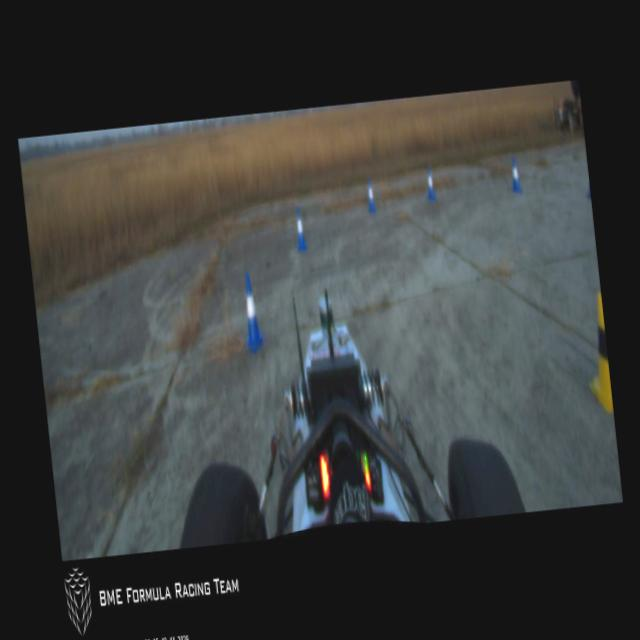blue_cone: (237, 272, 263, 350), (292, 207, 307, 251), (508, 157, 522, 193), (364, 177, 376, 213), (424, 166, 436, 201)
yellow_cone: (580, 291, 613, 415)
